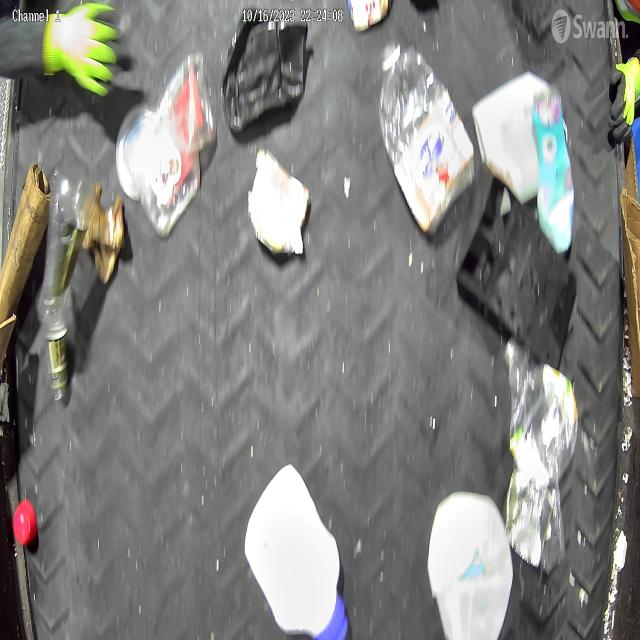can: (247, 148, 311, 256), (506, 472, 558, 568)
milk_jug: (427, 490, 511, 640)
plastic_bottle: (380, 40, 476, 227), (501, 338, 579, 486)
